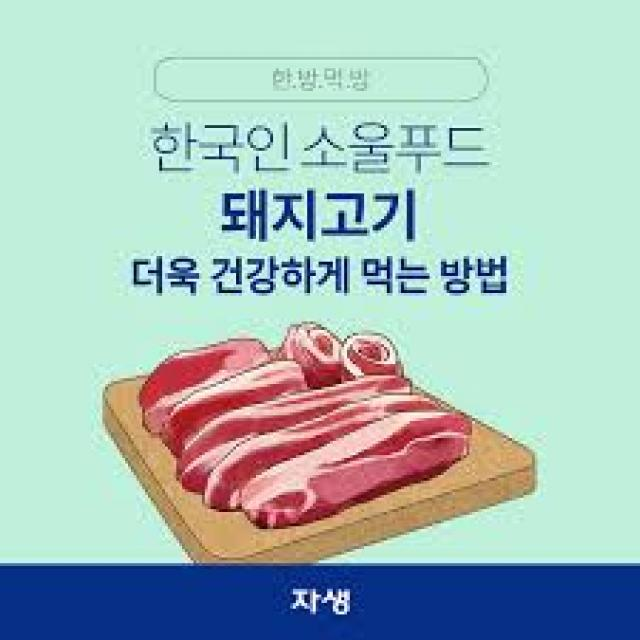pork belly: (203, 395, 472, 529)
